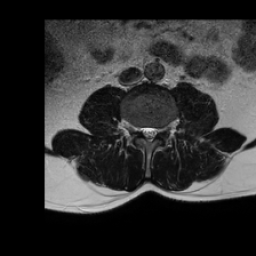CCS_normal: (146, 119, 151, 147)
LFS_stenosis: (158, 120, 164, 138)
LLS_normal: (151, 123, 158, 143)
RFS_stenosis: (132, 120, 140, 138)
RLS_stenosis: (140, 120, 146, 141)
